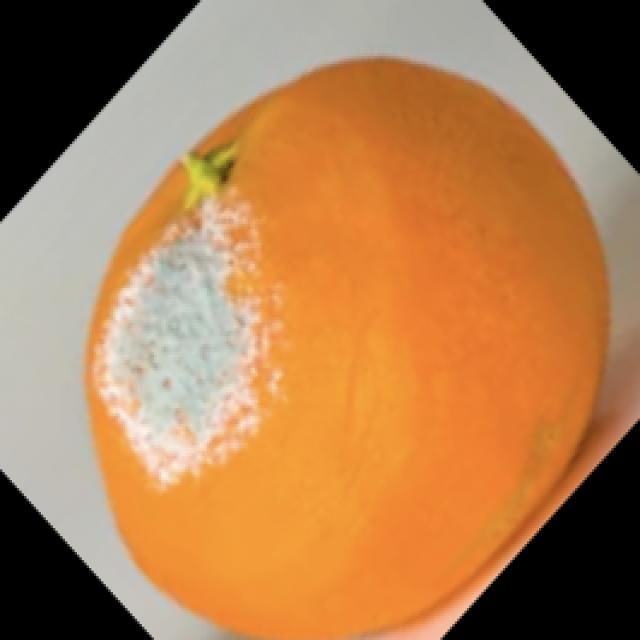sedikit-busuk: (87, 59, 607, 635)
